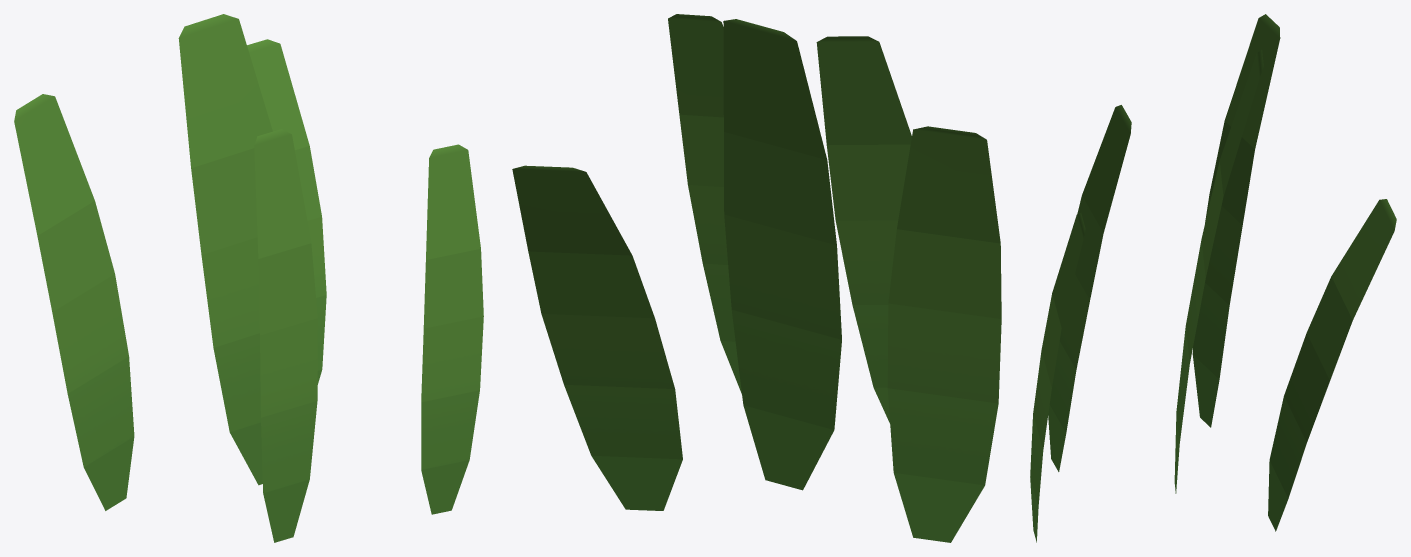
Rendered from Dino_Vege_Grass.fbx.
3 views of the same model, side by side, from view 1: azimuth 30°, elevation 25°; view 2: azimuth 150°, elevation 25°; view 3: azimuth 270°, elevation 25° (orthographic). The views are drawn at different scales.
Visible parts, largest first — view 1: Dino_Vege_Grass_C_mesh; view 2: Dino_Vege_Grass_C_mesh; view 3: Dino_Vege_Grass_C_mesh.
Boxes of the visible parts, x1,y1,x2,y2 form: Dino_Vege_Grass_C_mesh: [14, 14, 483, 542]; Dino_Vege_Grass_C_mesh: [512, 14, 1001, 542]; Dino_Vege_Grass_C_mesh: [1030, 14, 1396, 542].
Size of the model in its own units: 11.56 by 13.24 by 10.38.
